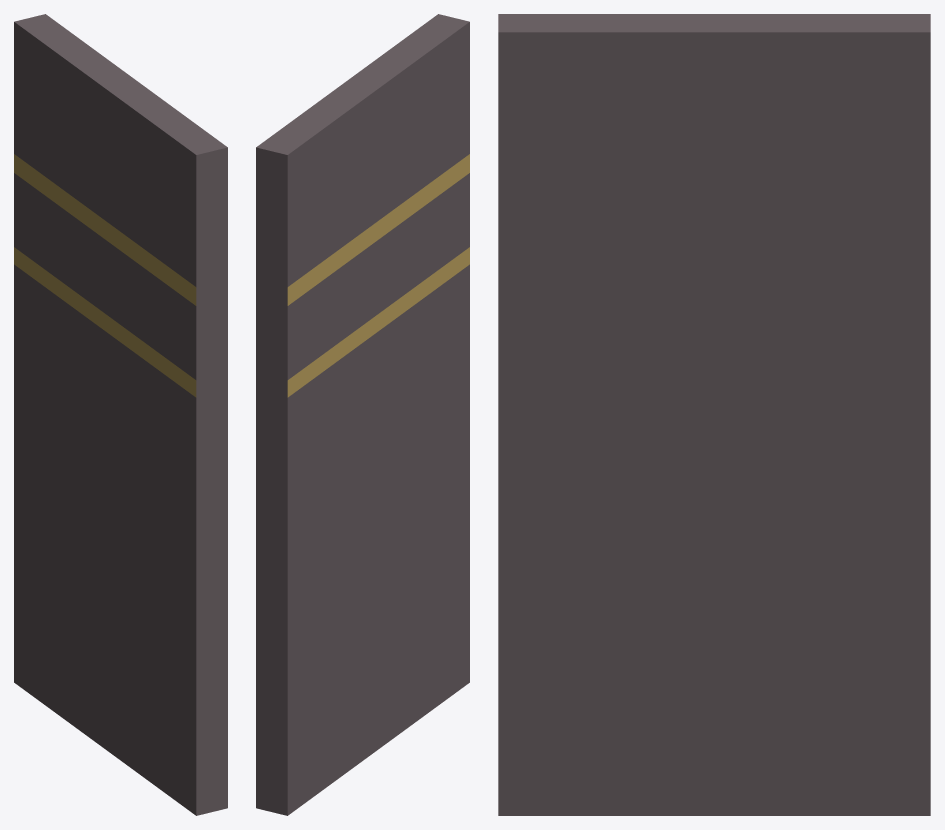
The model's file is basic_wall - Copia.fbx.
3 renders of one model, left to right at view 1: azimuth 30°, elevation 25°; view 2: azimuth 150°, elevation 25°; view 3: azimuth 270°, elevation 25°, orthographic. The views are drawn at different scales.
Visible parts, largest first — view 1: Plane; view 2: Plane; view 3: Plane.
Boxes of the visible parts, x1,y1,x2,y2 form: Plane: (14, 14, 227, 815); Plane: (256, 14, 469, 815); Plane: (498, 14, 930, 815).
Bounding box in the file's own units: 10 × 200 × 100.
